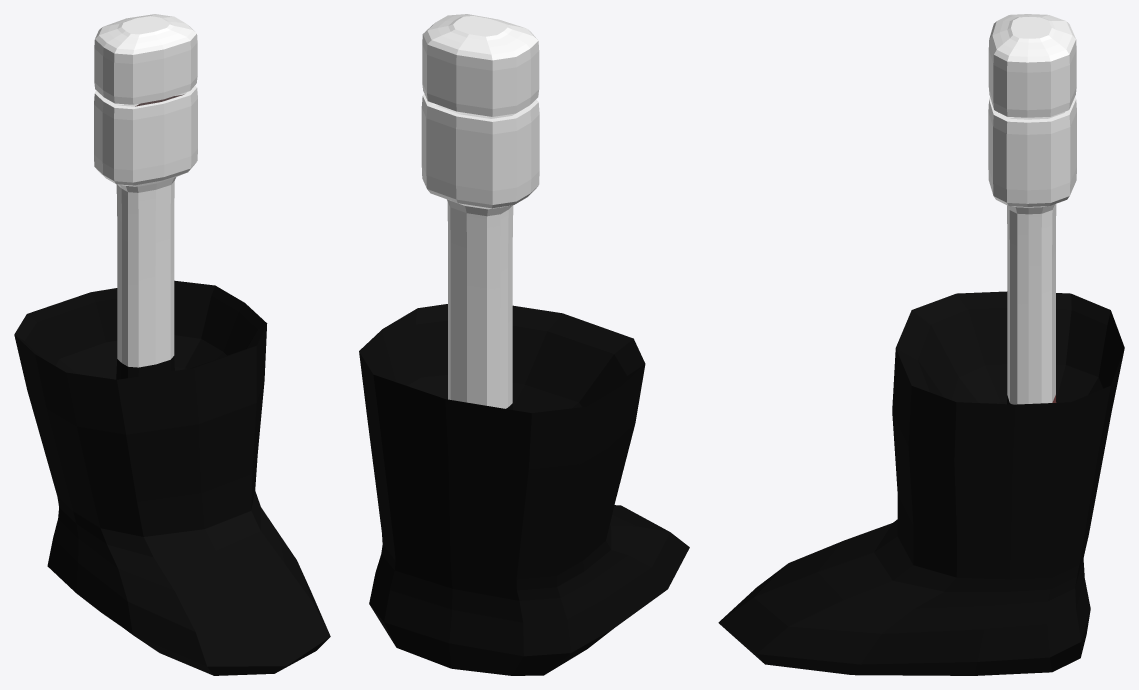
Rendered from Pied_Pickup.fbx.
3 views of the same model, side by side, from view 1: azimuth 30°, elevation 25°; view 2: azimuth 150°, elevation 25°; view 3: azimuth 270°, elevation 25° (orthographic). The views are drawn at different scales.
Parts seen in each view (by area): view 1: zombie; view 2: zombie; view 3: zombie.
Part boxes in pixels (x1,y1,x2,y2): zombie: (14, 14, 330, 675); zombie: (359, 14, 689, 675); zombie: (718, 14, 1124, 675).
Size of the model in its own units: 15.55 by 39.62 by 23.53.
1 material, 1 textured.
